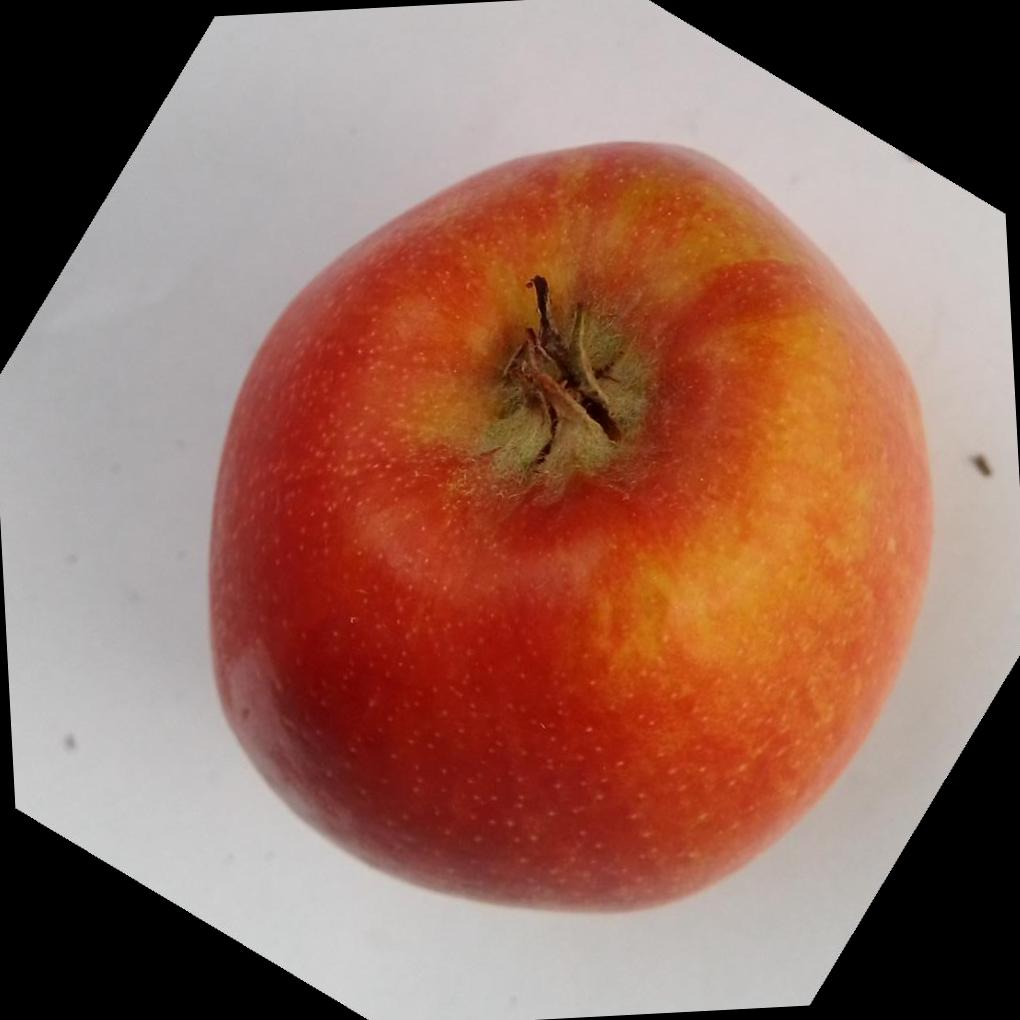FreshGuava: (207, 137, 939, 918)
